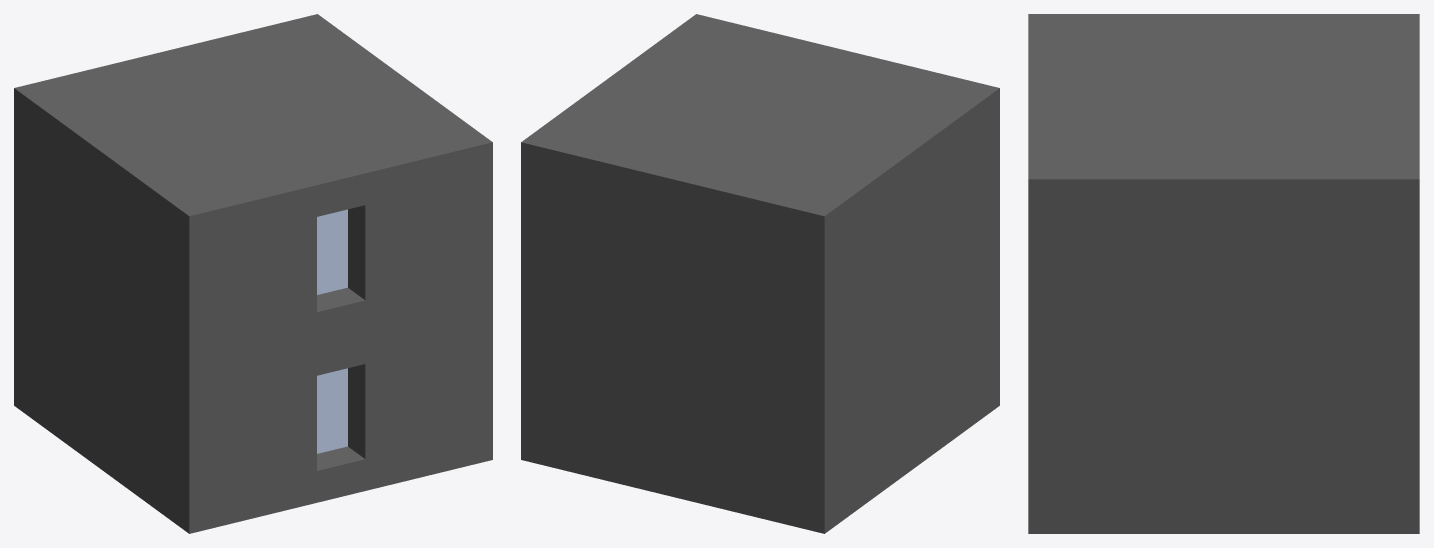
File: TowerMid.fbx
3 renders of one model, left to right at view 1: azimuth 30°, elevation 25°; view 2: azimuth 150°, elevation 25°; view 3: azimuth 270°, elevation 25°, orthographic. The views are drawn at different scales.
Parts seen in each view (by area): view 1: TowerMid; view 2: TowerMid; view 3: TowerMid.
Boxes of the visible parts, x1,y1,x2,y2 form: TowerMid: (14,14,492,533); TowerMid: (521,14,999,533); TowerMid: (1028,14,1419,533).
Bounding box in the file's own units: 200 × 200 × 200.
